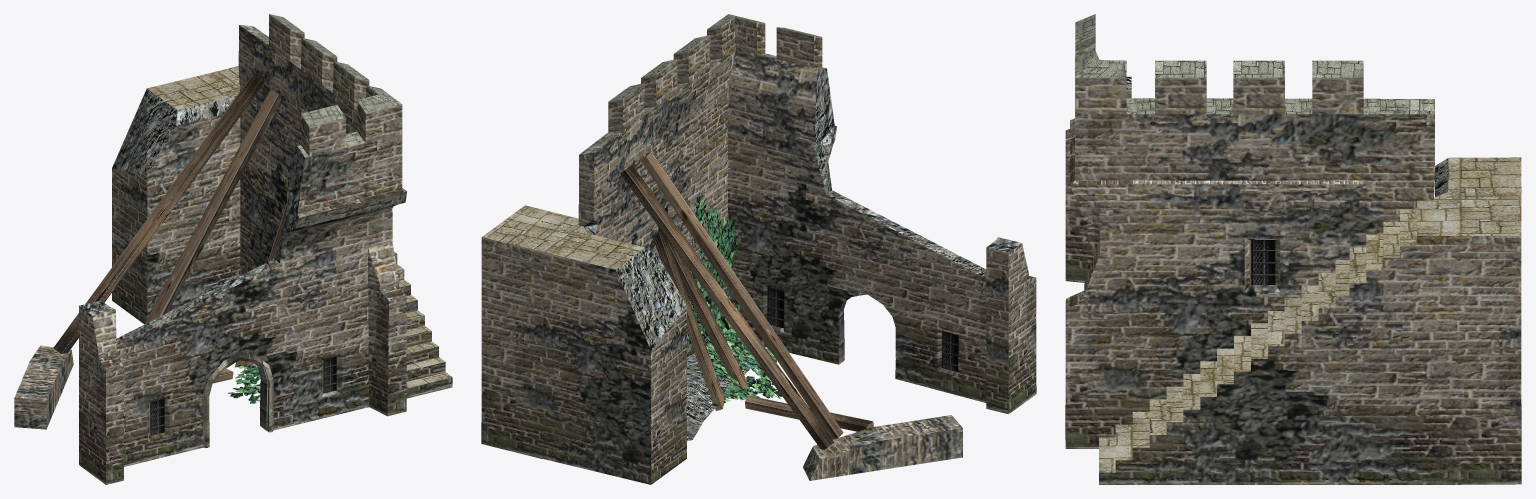
File: building_ruin_01.glb
3 renders of one model, left to right at view 1: azimuth 30°, elevation 25°; view 2: azimuth 150°, elevation 25°; view 3: azimuth 270°, elevation 25°, orthographic. The views are drawn at different scales.
Visible parts, largest first — view 1: building_ruin_01; view 2: building_ruin_01; view 3: building_ruin_01.
Boxes of the visible parts, x1,y1,x2,y2 form: building_ruin_01: [14, 14, 452, 484]; building_ruin_01: [481, 14, 1036, 484]; building_ruin_01: [1065, 14, 1521, 484].
Bounding box in the file's own units: 12.65 × 10.78 × 11.09.
Materials: 8 (8 with a texture image).
